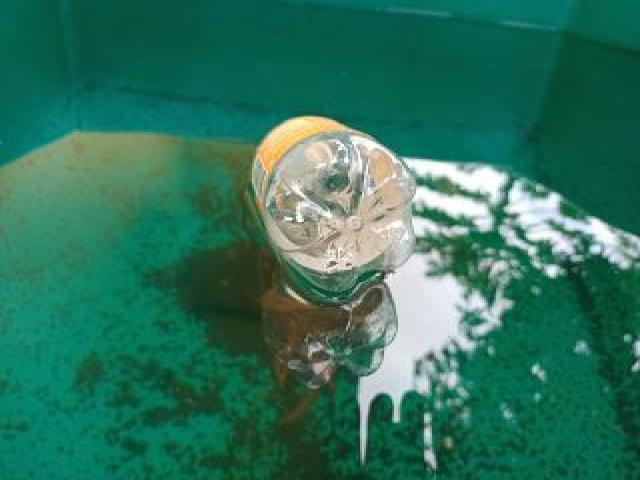Bottle: (237, 109, 425, 287)
